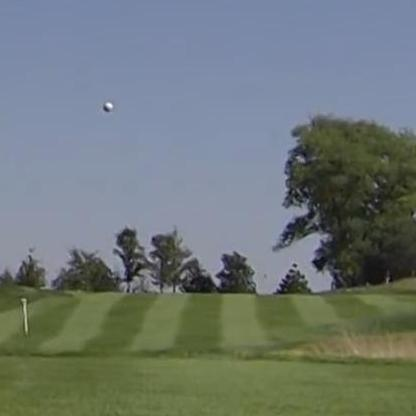golfball: (100, 99, 112, 110)
